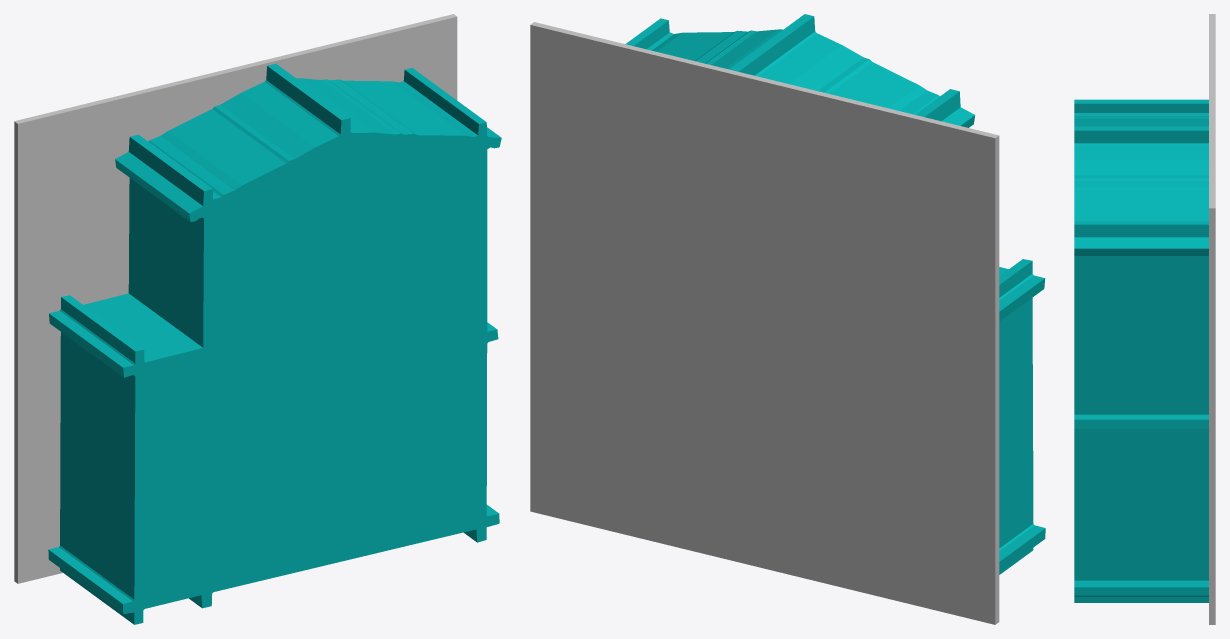
3 views of the same model, side by side, from view 1: azimuth 30°, elevation 25°; view 2: azimuth 150°, elevation 25°; view 3: azimuth 270°, elevation 25° (orthographic). The views are drawn at different scales.
Visible parts, largest first — view 1: world; view 2: world; view 3: world.
Boxes of the visible parts, x1,y1,x2,y2 form: world: [14, 14, 501, 624]; world: [530, 14, 1045, 624]; world: [1074, 14, 1215, 624].
Size of the model in its own units: 10.23 by 10.23 by 3.15.
